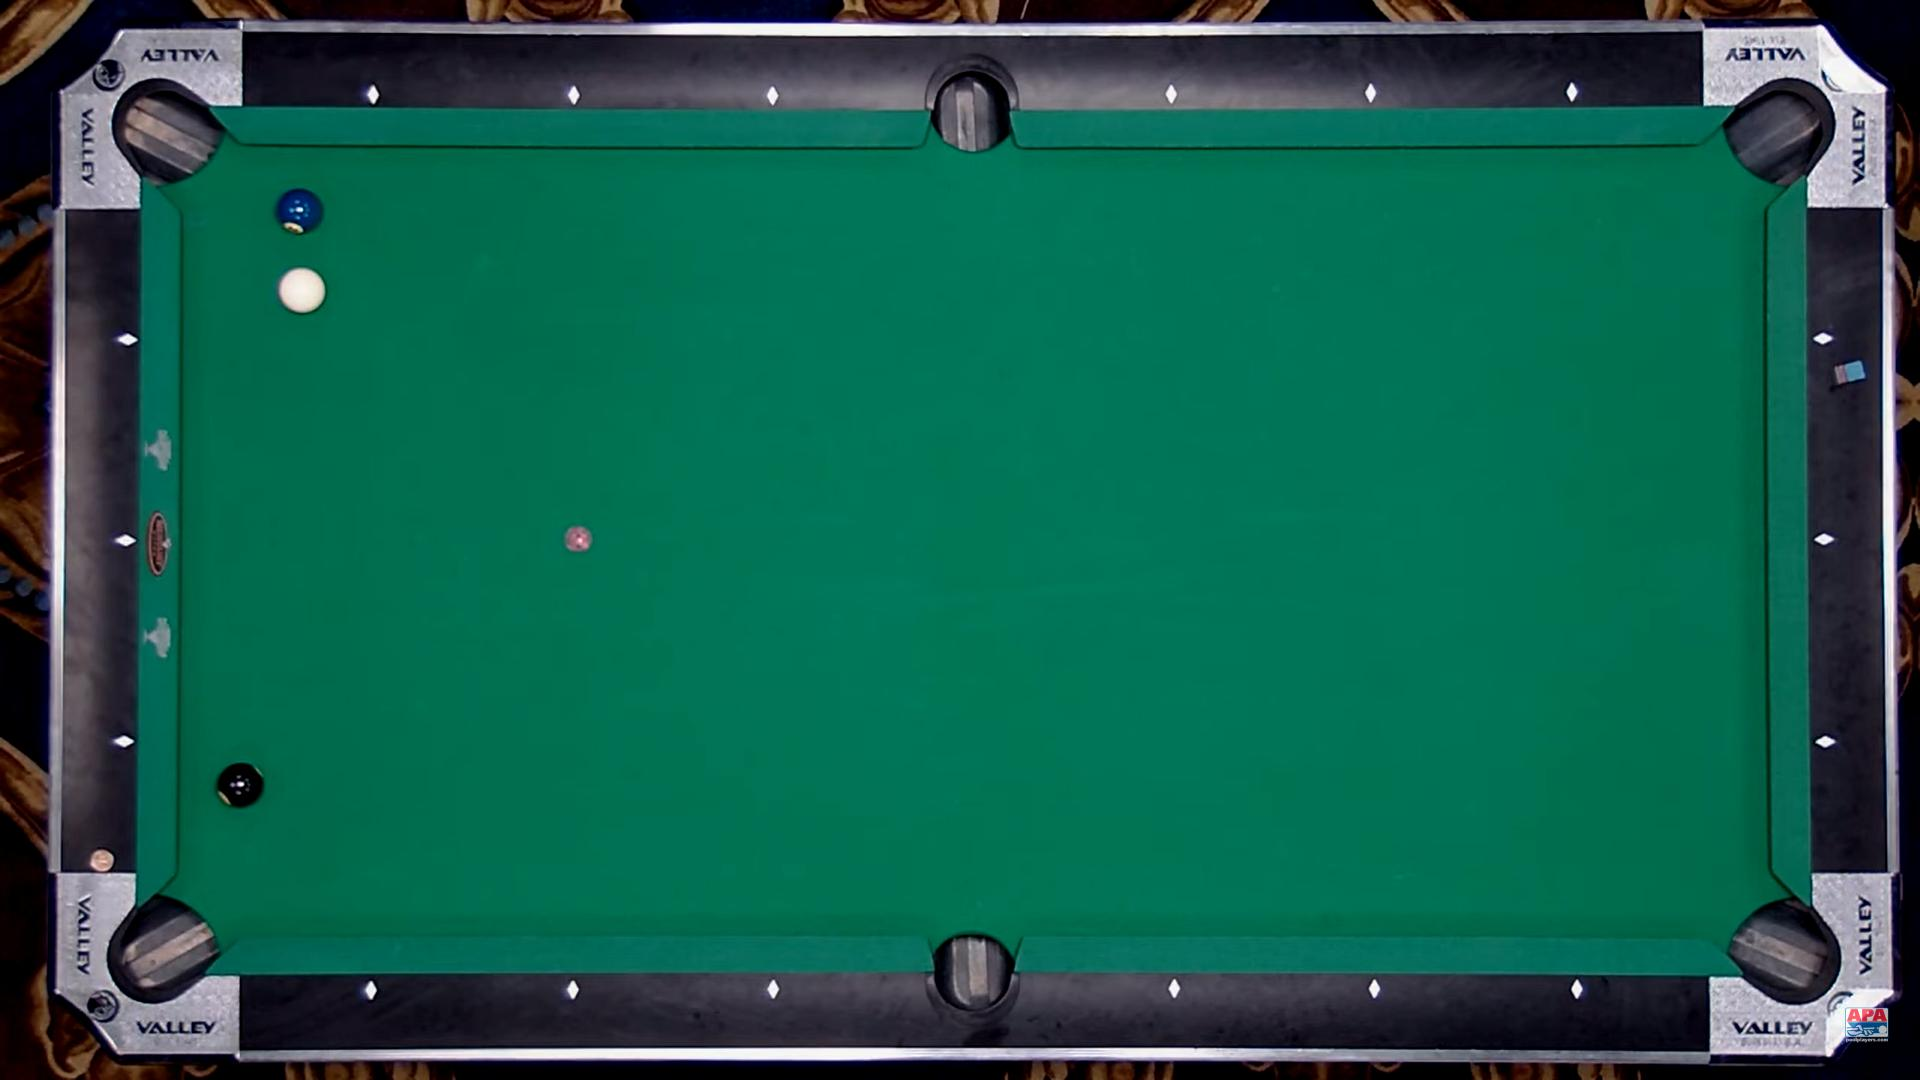Black: (215, 761, 265, 807)
Cue: (278, 268, 324, 314)
Dot: (116, 735, 131, 749), (119, 531, 133, 546), (121, 334, 136, 348), (1164, 87, 1179, 102), (1564, 84, 1578, 99), (1818, 735, 1833, 749), (566, 984, 580, 998), (368, 87, 381, 102), (567, 88, 580, 103), (766, 90, 781, 103), (1817, 533, 1832, 546), (1366, 981, 1379, 996), (1166, 981, 1180, 994), (766, 984, 781, 997), (364, 984, 377, 998), (1364, 87, 1377, 100), (1817, 334, 1830, 347), (1569, 984, 1582, 997)
Solid: (276, 189, 324, 235)
